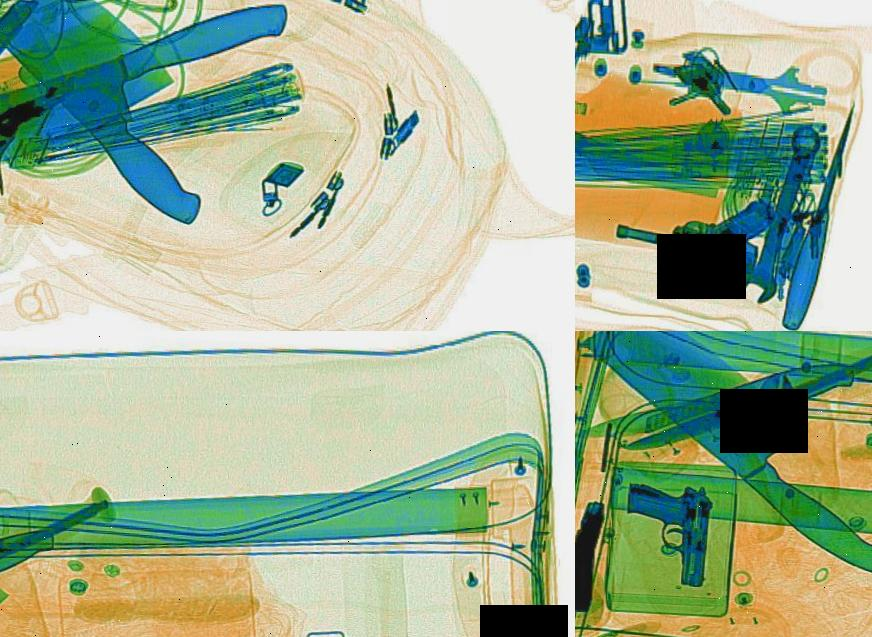Gun: (598, 171, 804, 278), (614, 479, 716, 588), (575, 499, 608, 612)
Knife: (575, 331, 872, 584), (0, 0, 289, 233), (0, 0, 328, 202), (615, 331, 872, 470), (575, 340, 866, 461), (0, 477, 178, 637), (772, 95, 862, 331), (575, 77, 725, 205), (0, 484, 116, 634), (636, 43, 838, 119)
Wrench: (729, 120, 828, 306)
